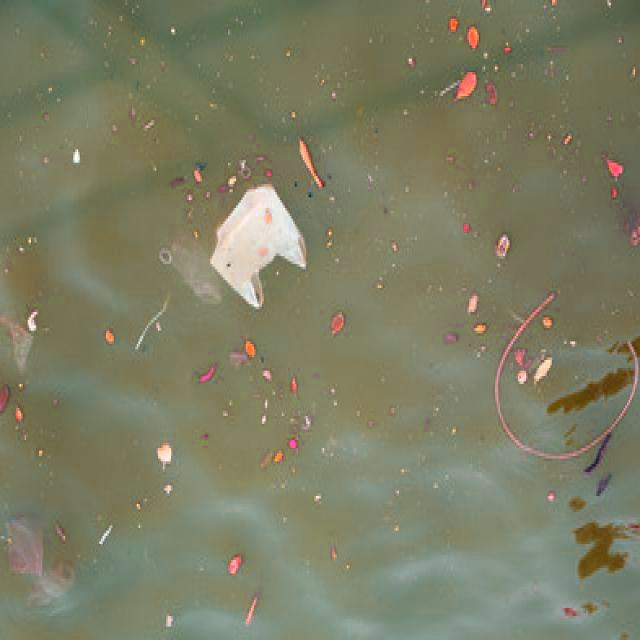Trash: (208, 185, 312, 309)
